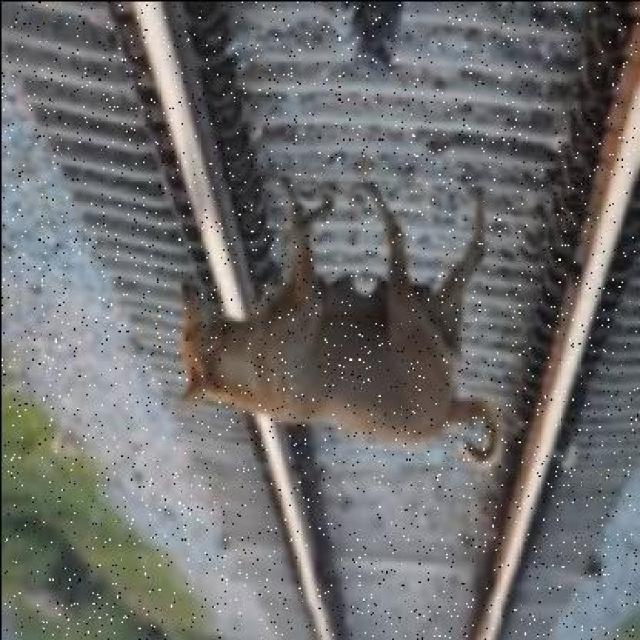danger: (178, 143, 508, 492)
rail: (1, 0, 637, 640)
